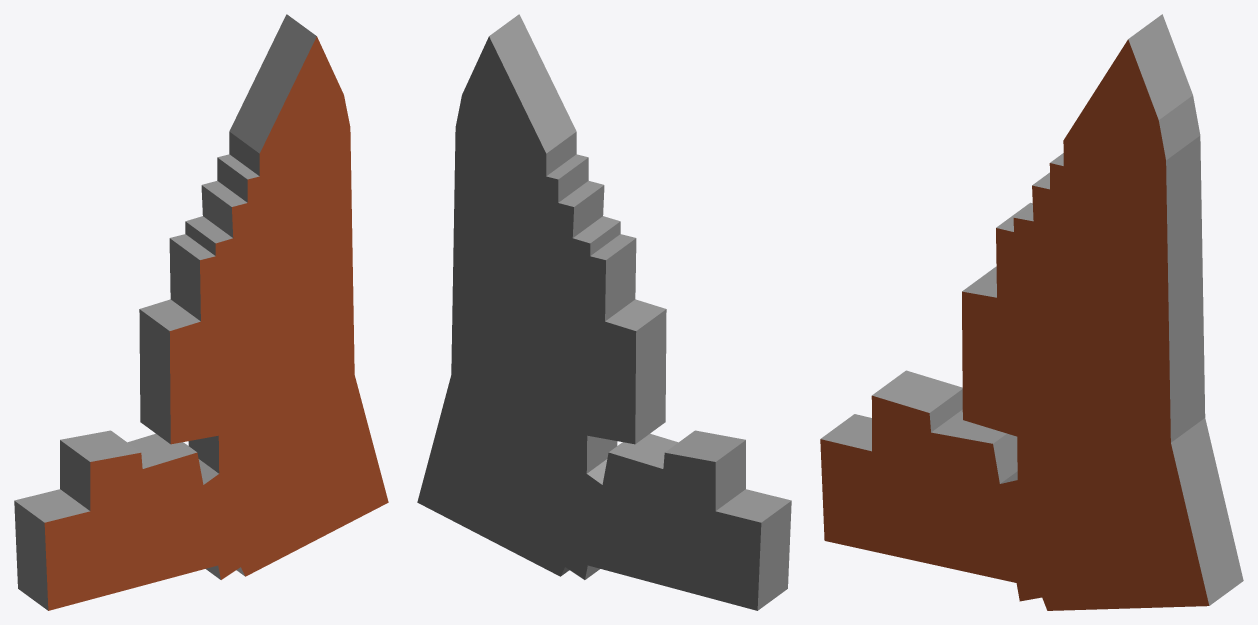
Rendered from construction_3718_assumed_A_Casa_h6m.obj.
The picture shows the model from 3 angles, left to right: view 1: azimuth 30°, elevation 25°; view 2: azimuth 150°, elevation 25°; view 3: azimuth 330°, elevation 25°; orthographic projection. The views are drawn at different scales.
Parts seen in each view (by area): view 1: construction_3718_assumed_A_Casa; view 2: construction_3718_assumed_A_Casa; view 3: construction_3718_assumed_A_Casa.
Part boxes in pixels (x1,y1,x2,y2): construction_3718_assumed_A_Casa: (14, 14, 388, 610); construction_3718_assumed_A_Casa: (417, 14, 791, 610); construction_3718_assumed_A_Casa: (820, 14, 1243, 610).
Size of the model in its own units: 39.27 by 57.06 by 6.
